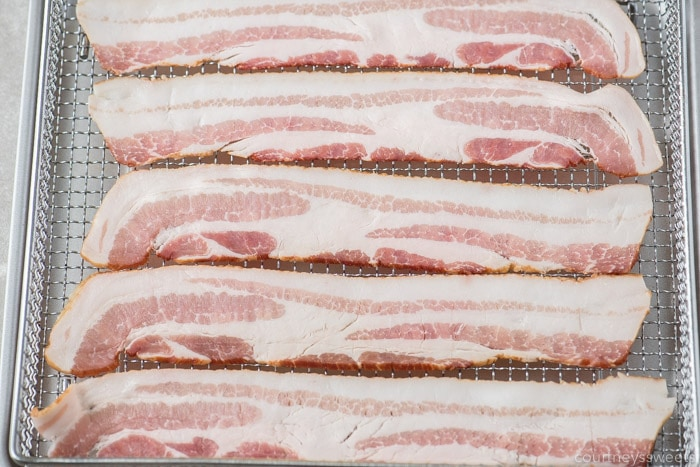bacon: (65, 3, 665, 459)
